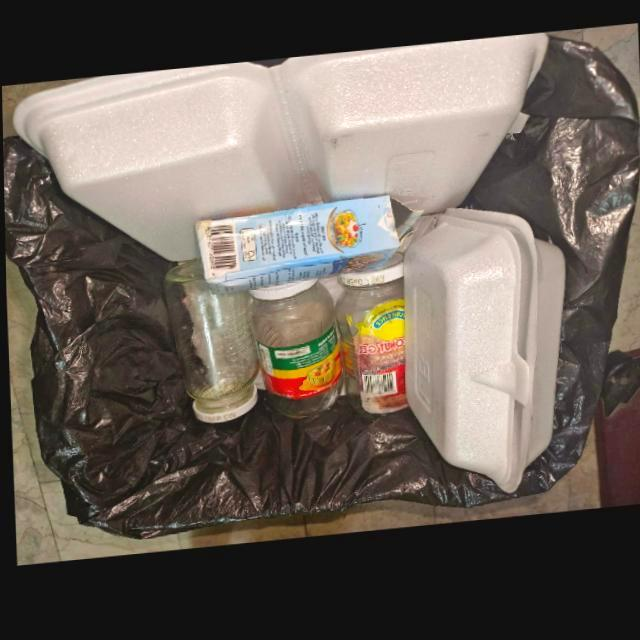glass_bottle: (162, 262, 258, 427), (246, 284, 342, 424), (333, 260, 405, 427)
